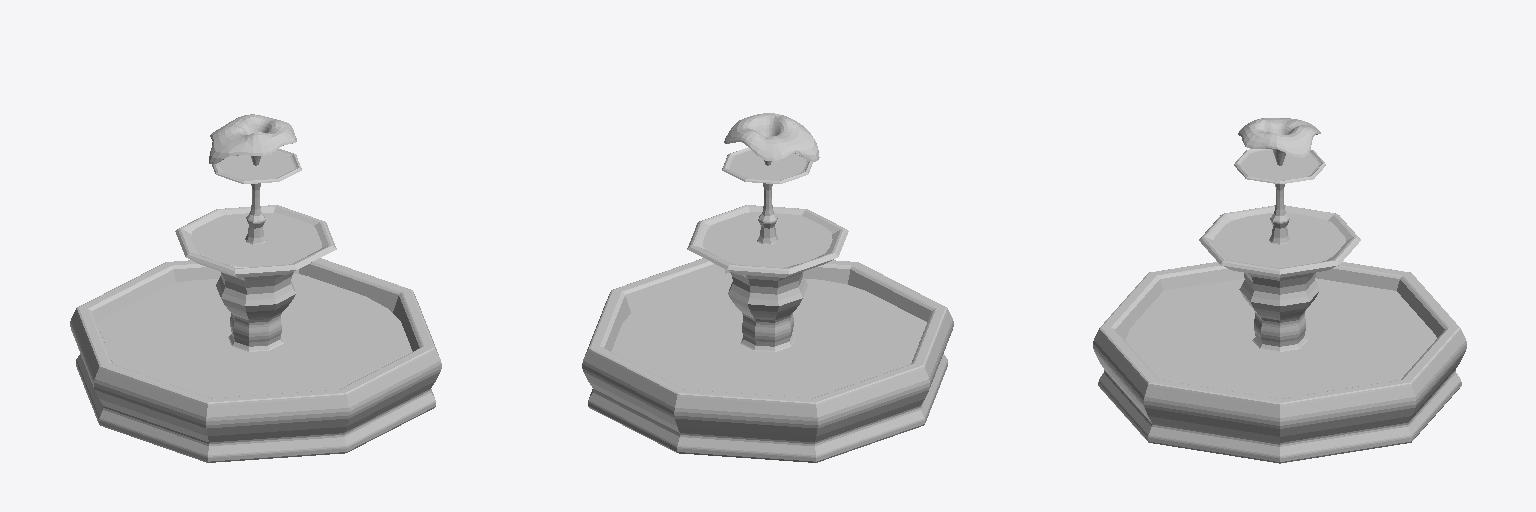
File: FuenteParque.obj
The picture shows the model from 3 angles: view 1: azimuth 30°, elevation 25°; view 2: azimuth 150°, elevation 25°; view 3: azimuth 270°, elevation 25°; orthographic projection.
Visible parts, largest first — view 1: Cube, Cylinder; view 2: Cube, Cylinder; view 3: Cube, Cylinder.
Part boxes in pixels (x1,y1,x2,y2): Cube: (70, 149, 441, 462); Cylinder: (97, 114, 412, 397); Cube: (582, 147, 953, 462); Cylinder: (611, 113, 926, 397); Cube: (1093, 149, 1466, 463); Cylinder: (1126, 118, 1436, 398).
Size of the model in its own units: 4.32 by 3.36 by 4.32.